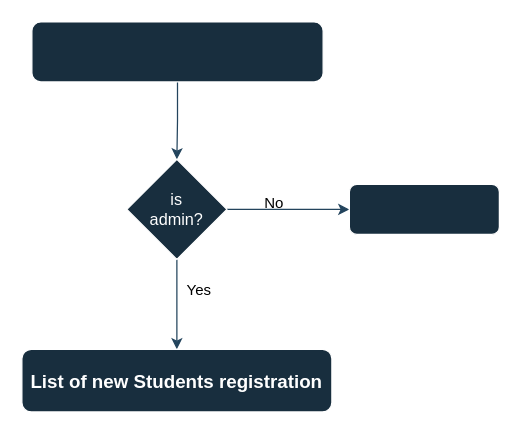
The diagram is 521 pixels wide and 434 high, and some of its shapes have lost their labels. The centre of each missing label's shape, as x and y in pixels:
"Invalid user" belongs at (423,208).
"New Student List" belongs at (177,51).
